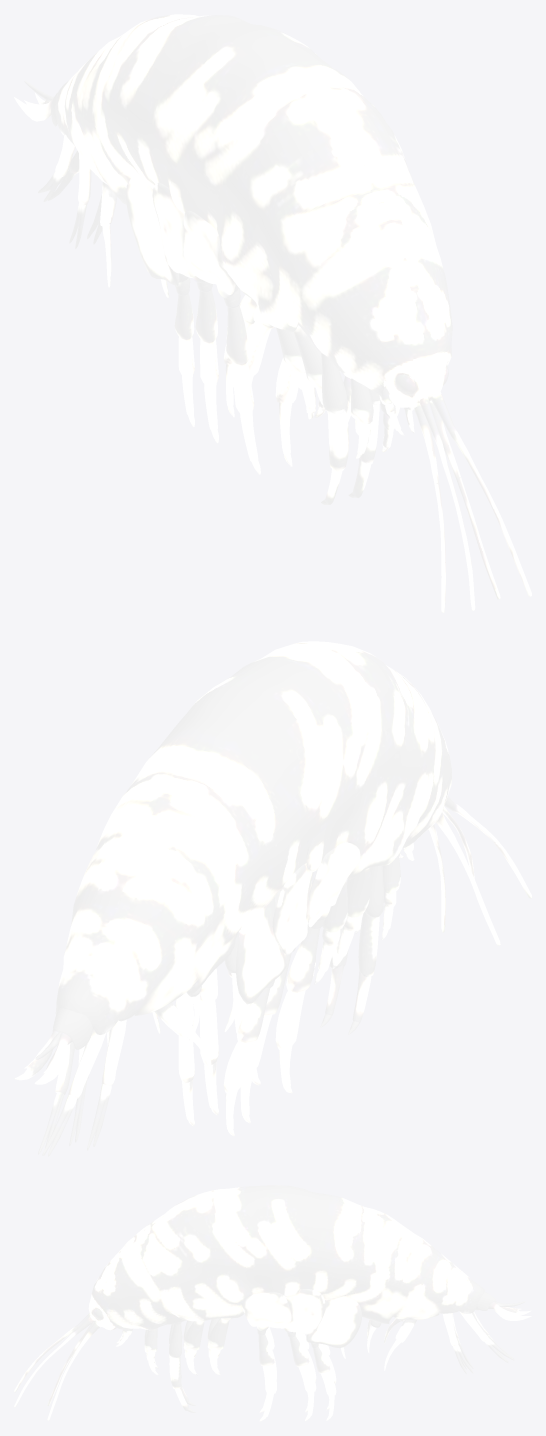
The model's file is Supergiantamphipod.glb.
3 views of the same model, one above another, from view 1: azimuth 30°, elevation 25°; view 2: azimuth 150°, elevation 25°; view 3: azimuth 270°, elevation 25° (orthographic). The views are drawn at different scales.
Visible parts, largest first — view 1: supergiant_amphipod_LOD1.1; view 2: supergiant_amphipod_LOD1.1; view 3: supergiant_amphipod_LOD1.1.
Part boxes in pixels (x1,y1,x2,y2): supergiant_amphipod_LOD1.1: [14, 14, 531, 612]; supergiant_amphipod_LOD1.1: [14, 641, 531, 1156]; supergiant_amphipod_LOD1.1: [14, 1185, 531, 1421].
Bounding box in the file's own units: 0.0514 × 0.1334 × 0.2747.
Materials: 1 (1 with a texture image).
